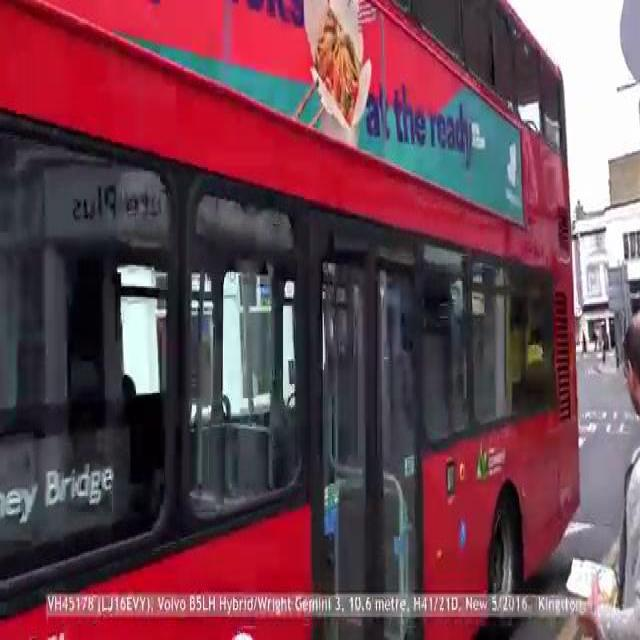motorcycle: (0, 9, 586, 626)
